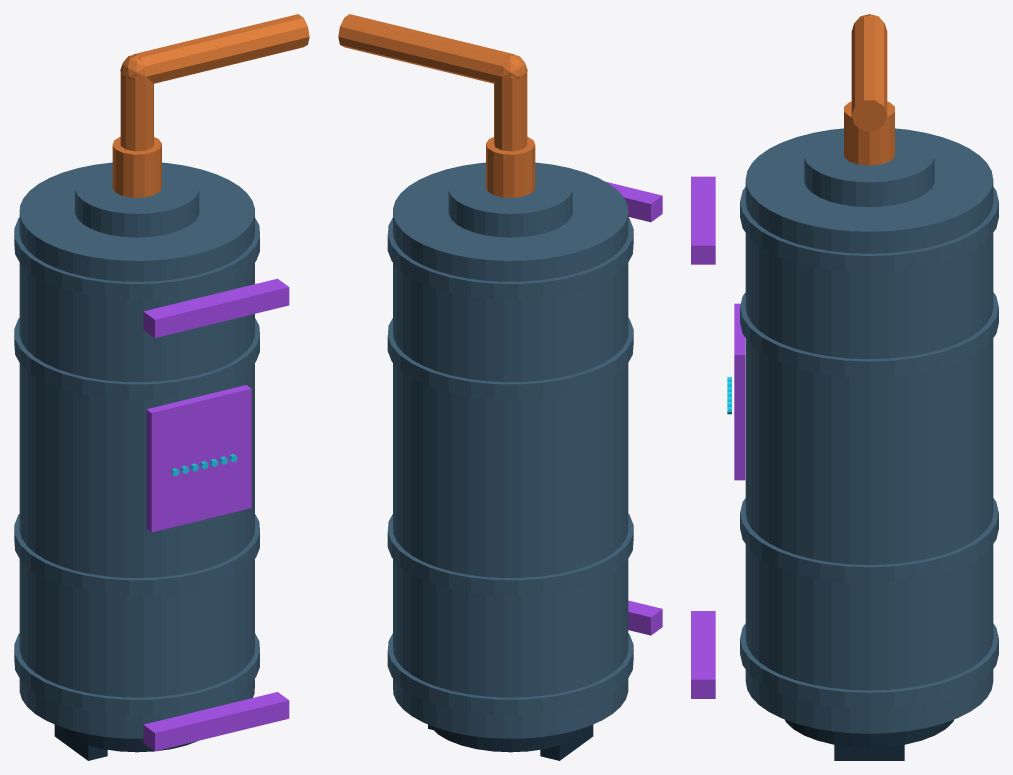
The model's file is 14_L72_VirtualPrecursorSupplyB.fbx.
3 renders of one model, left to right at view 1: azimuth 30°, elevation 25°; view 2: azimuth 150°, elevation 25°; view 3: azimuth 270°, elevation 25°, orthographic. The views are drawn at different scales.
Parts seen in each view (by area): view 1: VirtualPrecursorSupplyB; view 2: VirtualPrecursorSupplyB; view 3: VirtualPrecursorSupplyB.
Boxes of the visible parts, bbox=[...] form: VirtualPrecursorSupplyB: bbox=[14, 14, 309, 760]; VirtualPrecursorSupplyB: bbox=[338, 14, 662, 760]; VirtualPrecursorSupplyB: bbox=[691, 14, 998, 760].
Size of the model in its own units: 101 by 241 by 94.46.
